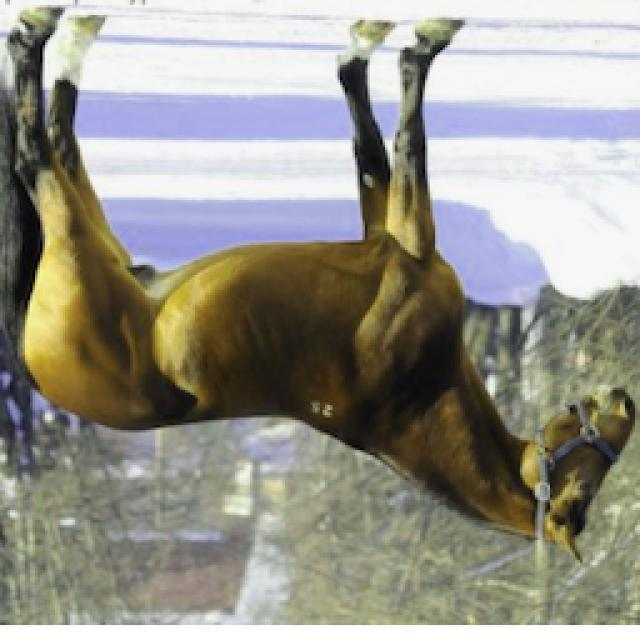Horse: (2, 5, 640, 570)
